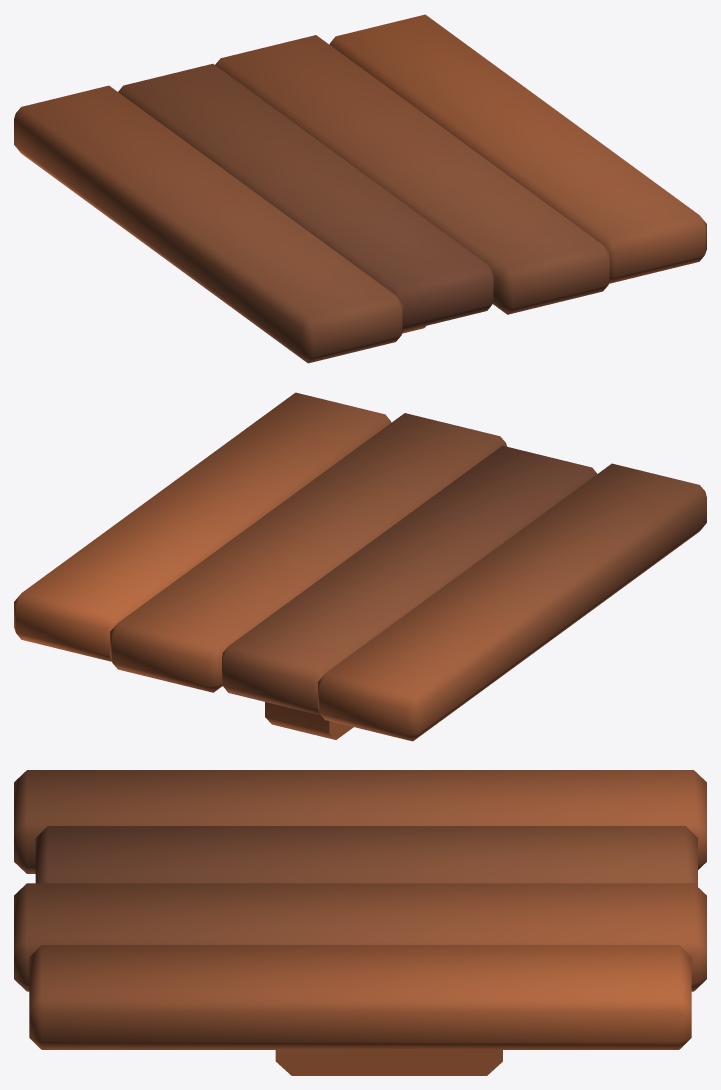
File: shield_wood.fbx
The picture shows the model from 3 angles, top to bottom: view 1: azimuth 30°, elevation 25°; view 2: azimuth 150°, elevation 25°; view 3: azimuth 270°, elevation 25°; orthographic projection. The views are drawn at different scales.
Parts seen in each view (by area): view 1: shield_wood; view 2: shield_wood; view 3: shield_wood.
Part boxes in pixels (left/top/right/bottom): shield_wood: left=14, top=14, right=706, bottom=363; shield_wood: left=14, top=392, right=706, bottom=741; shield_wood: left=14, top=770, right=706, bottom=1075.
Size of the model in its own units: 0.4517 by 0.1578 by 0.5652.
2 materials, 2 textured.
